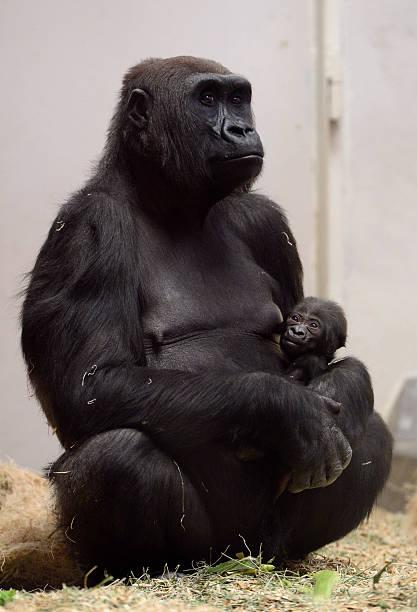gorille_Autres: (13, 27, 392, 576)
